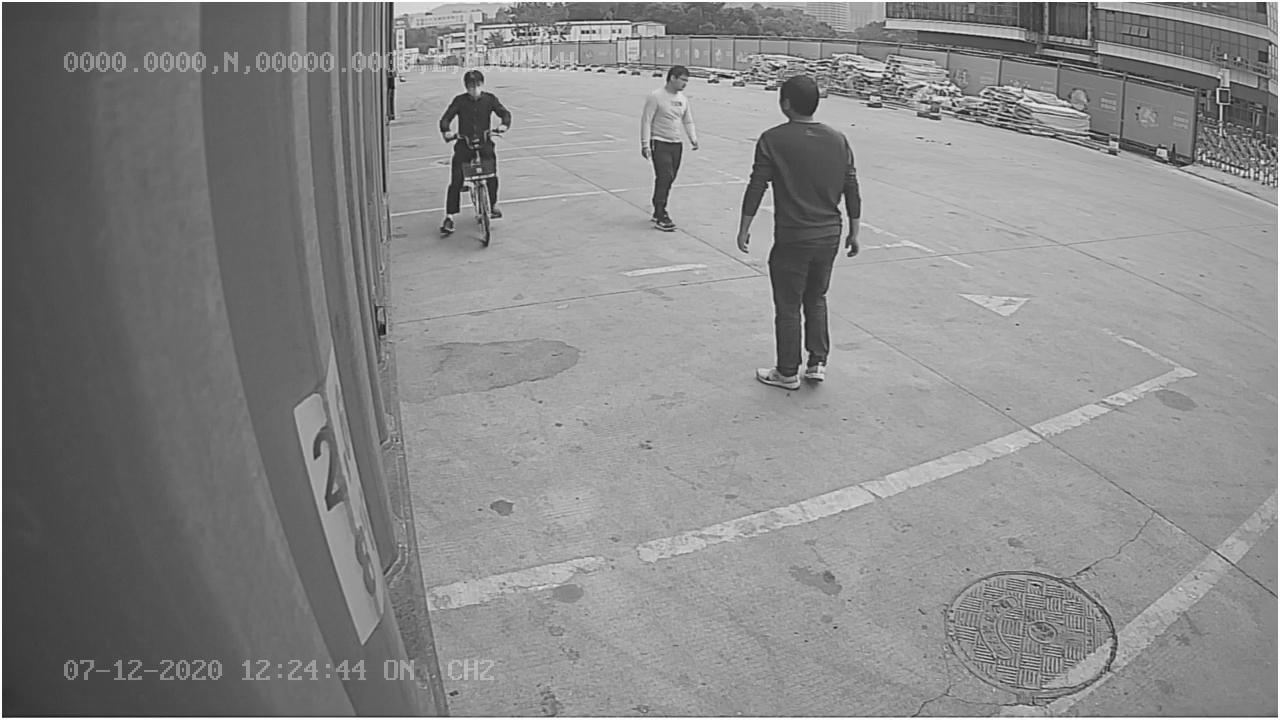person: (731, 73, 868, 393), (636, 65, 703, 230)
